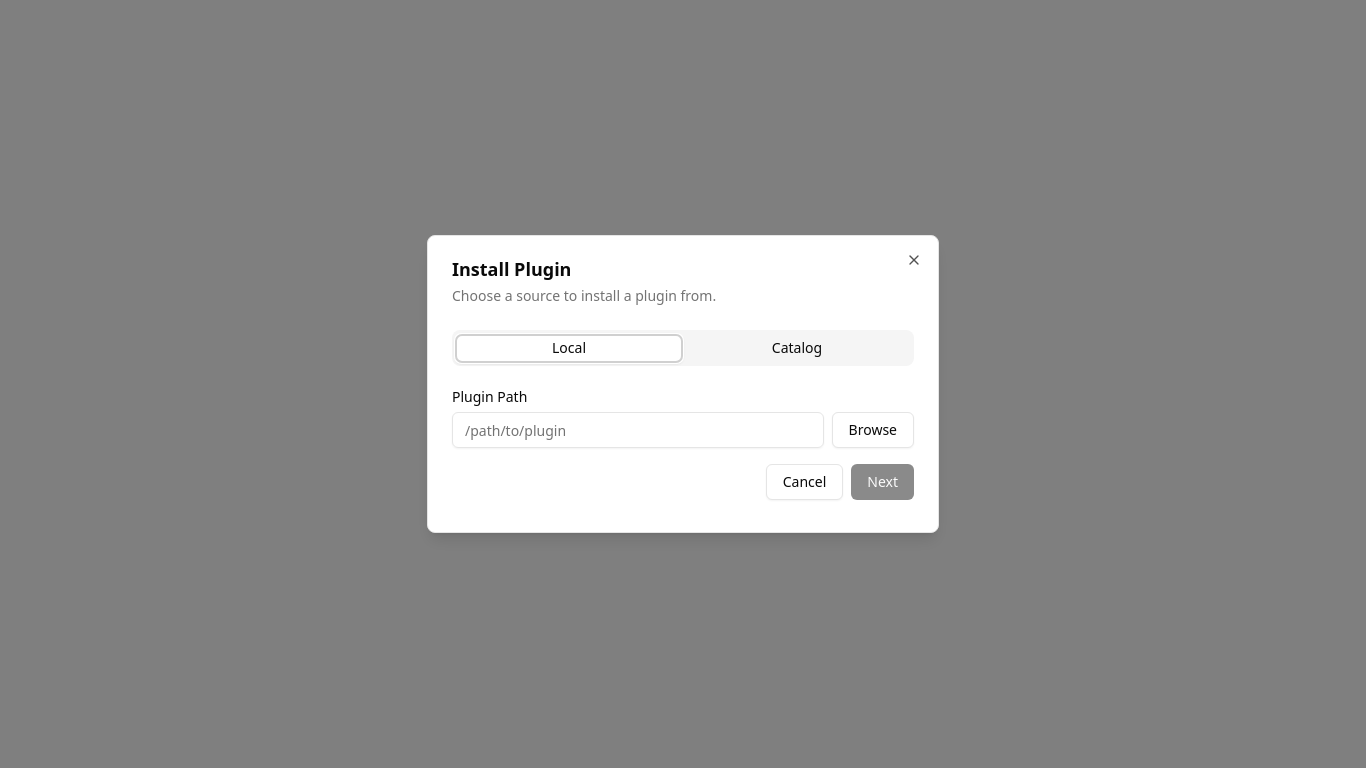
Test: PluginInstallDialog › fills the path field from the desktop file picker
Click the button "Browse".
click(873, 430)  # box [832,412,914,448]
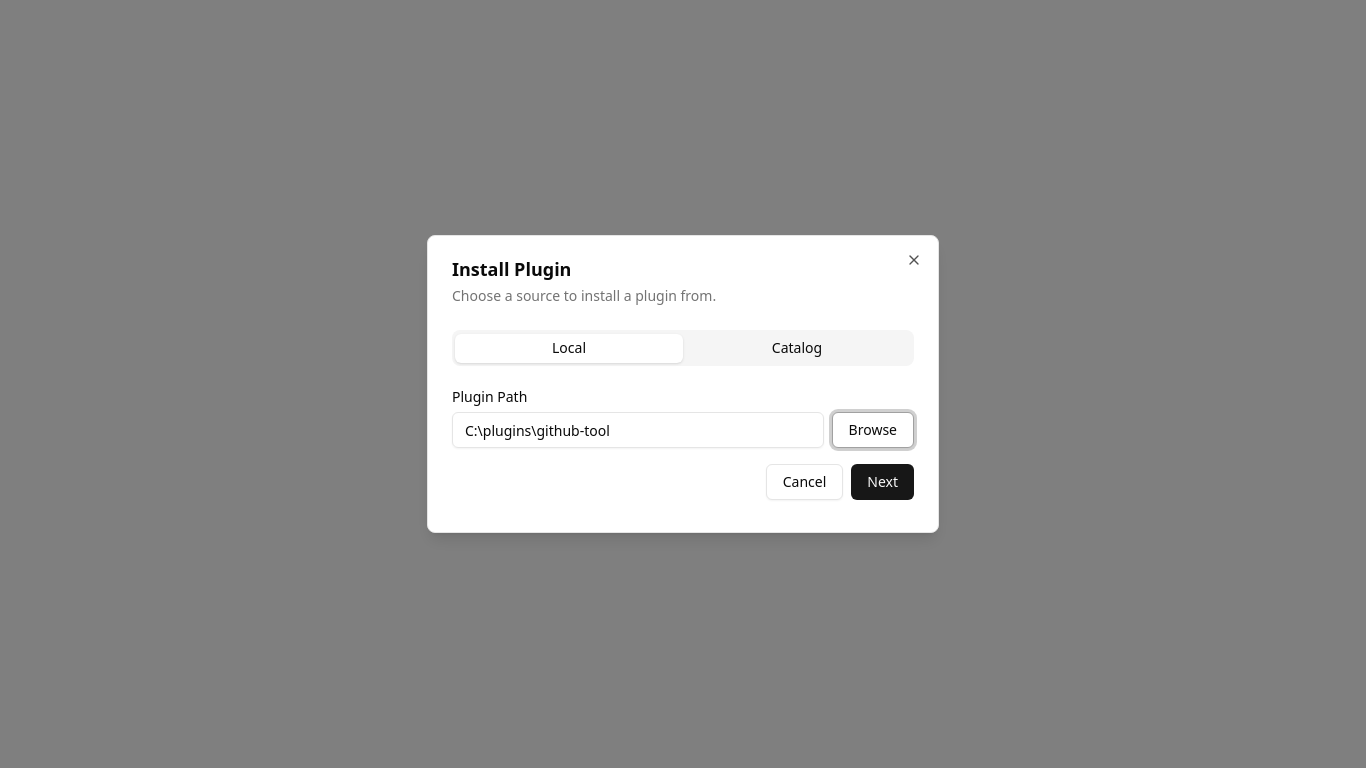
Expected: the field labelled "Plugin Path" holds "C:\\plugins\\github-tool", [452,412,824,448]
